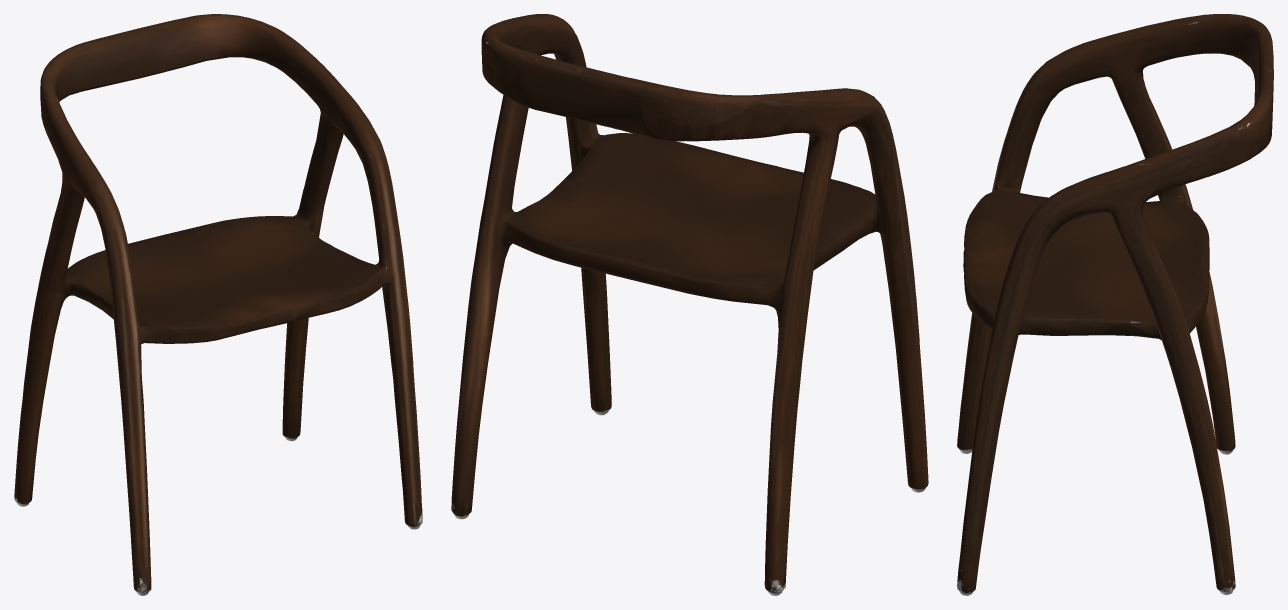
The model's file is c9f2ec61-7d02-4095-b353-79abfb6267ed.glb.
3 views of the same model, side by side, from view 1: azimuth 30°, elevation 25°; view 2: azimuth 150°, elevation 25°; view 3: azimuth 270°, elevation 25° (orthographic). The views are drawn at different scales.
Visible parts, largest first — view 1: Mesh_0; view 2: Mesh_0; view 3: Mesh_0.
Part boxes in pixels (x1,y1,x2,y2): Mesh_0: [14, 14, 422, 595]; Mesh_0: [451, 14, 928, 595]; Mesh_0: [957, 14, 1273, 595].
Size of the model in its own units: 1.34 by 1.91 by 1.19.
1 material, 1 textured.
